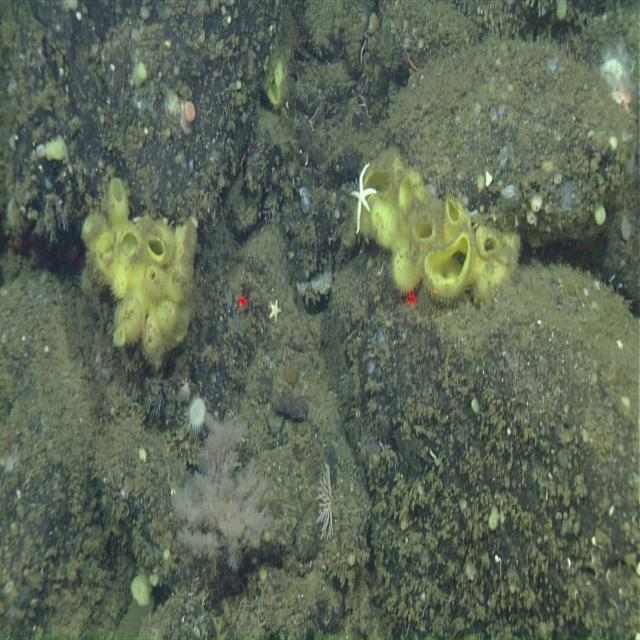Brittle Star: (356, 88, 376, 121)
Not Brittle Star: (78, 175, 202, 373), (368, 145, 510, 309), (168, 399, 282, 574), (594, 37, 637, 105), (347, 159, 378, 236), (260, 48, 293, 114), (313, 459, 338, 546), (41, 128, 69, 168), (185, 393, 210, 437), (129, 568, 154, 611), (132, 60, 150, 88), (592, 202, 608, 230), (487, 503, 501, 534), (176, 381, 192, 405), (528, 193, 544, 215), (268, 298, 282, 323), (484, 166, 493, 188)
